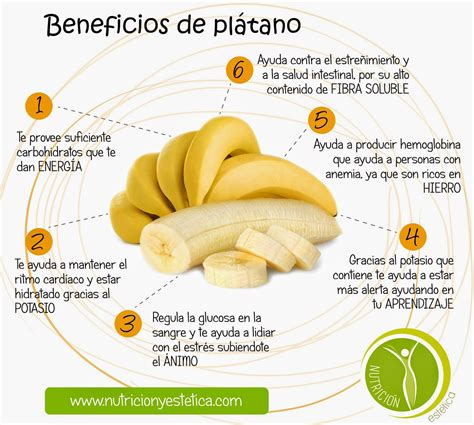banana: (196, 151, 348, 222), (180, 115, 262, 204)
